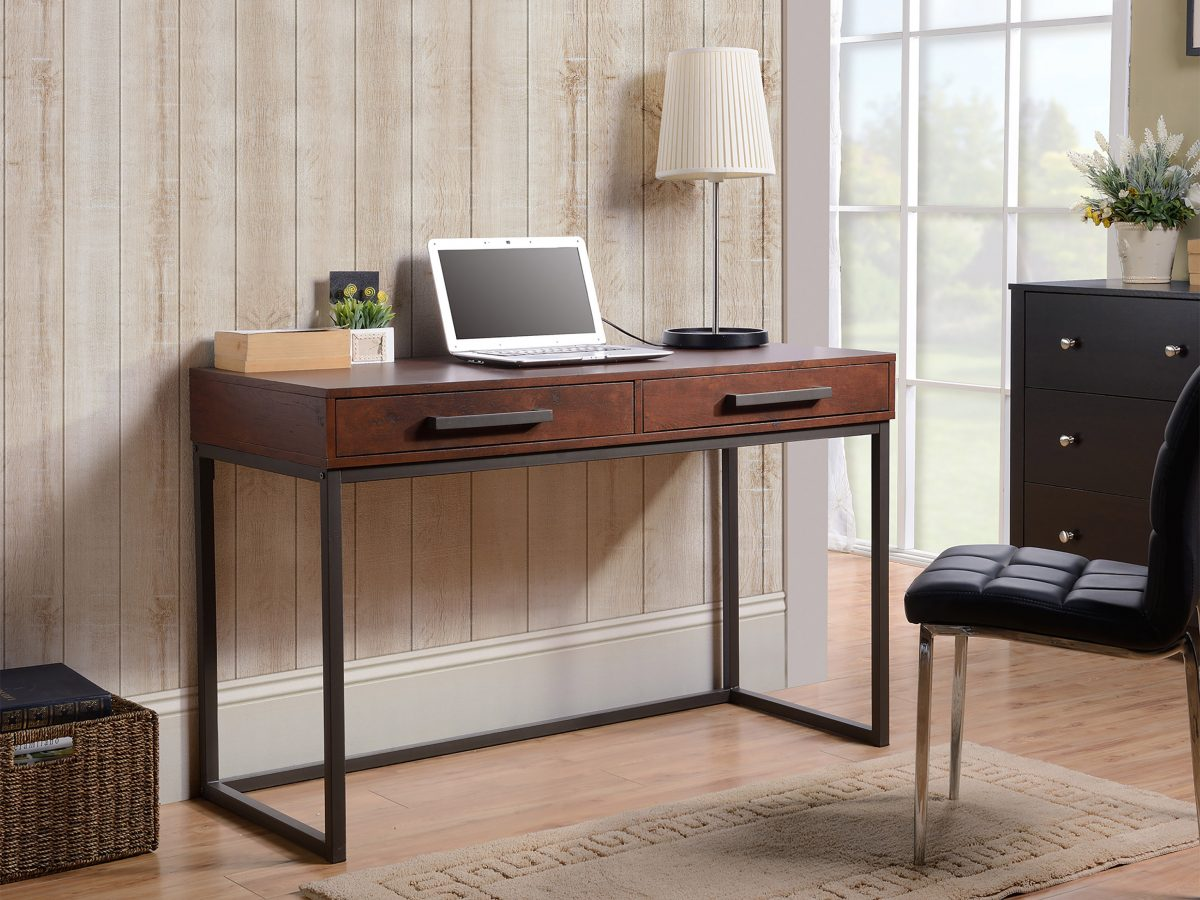not a gesture sign: (442, 795, 890, 900)
